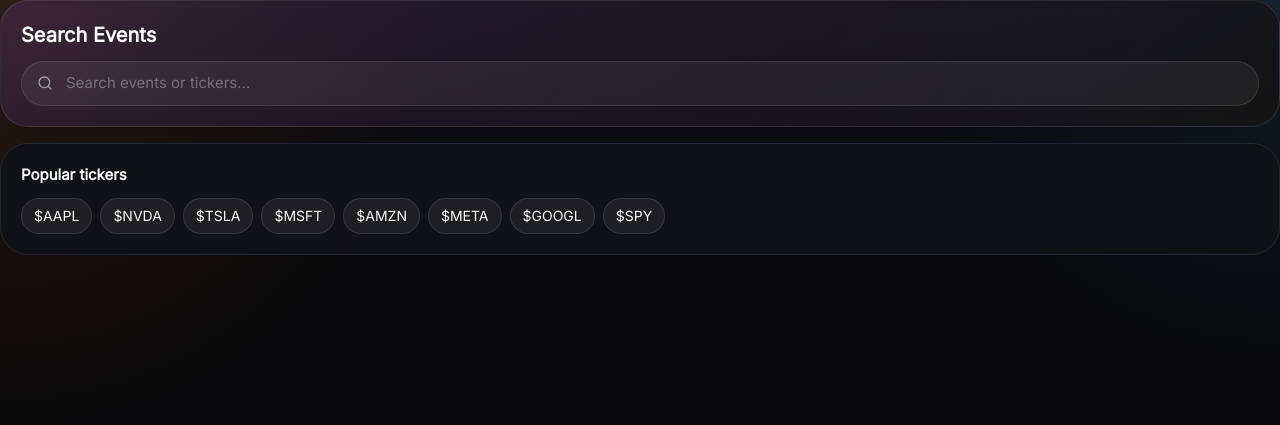
Test: Search page › shows empty state when no results found
Type "xyznotfound" into the field labelled "Search events" at [640, 83], box left=21, top=61, right=1259, bottom=106
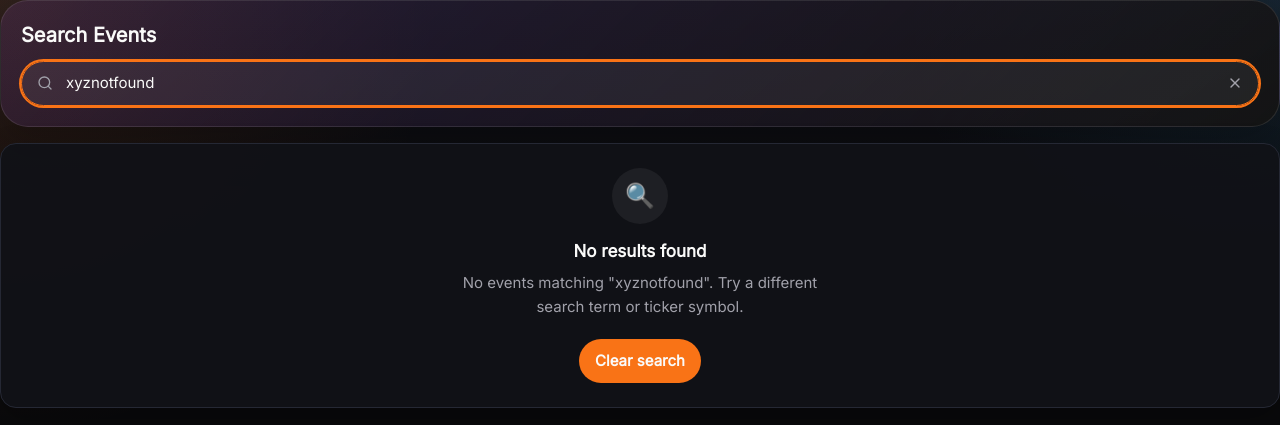
Expected: the heading "No results found" is shown, left=574, top=240, right=706, bottom=260
